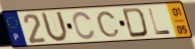2: (23, 12, 49, 45)
C: (95, 10, 121, 39), (72, 11, 97, 41)
D: (121, 7, 150, 39)
L: (147, 8, 173, 37)
U: (39, 11, 70, 44)
